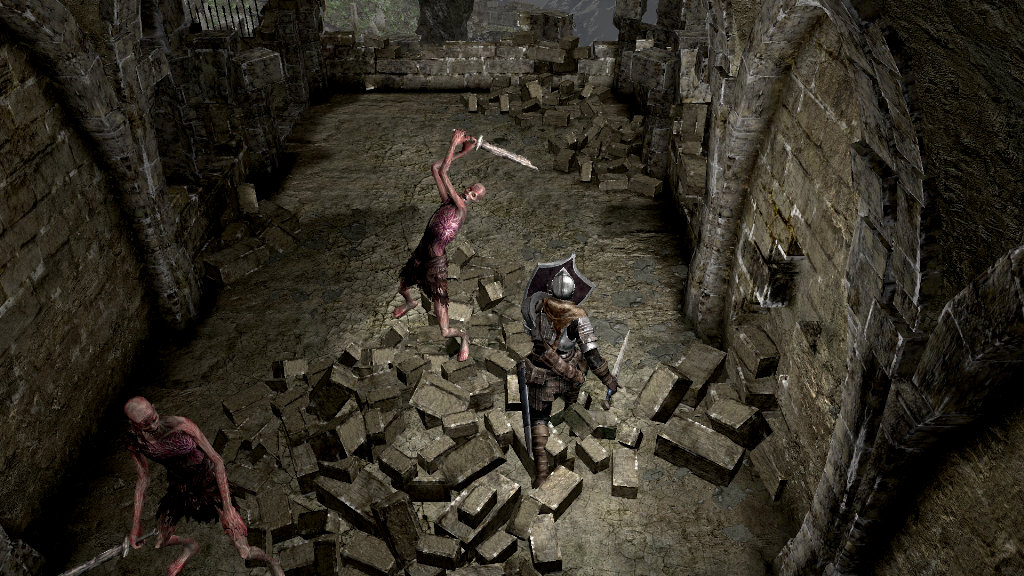hollow: (120, 395, 284, 576), (392, 129, 486, 361)
player: (516, 254, 630, 487)
